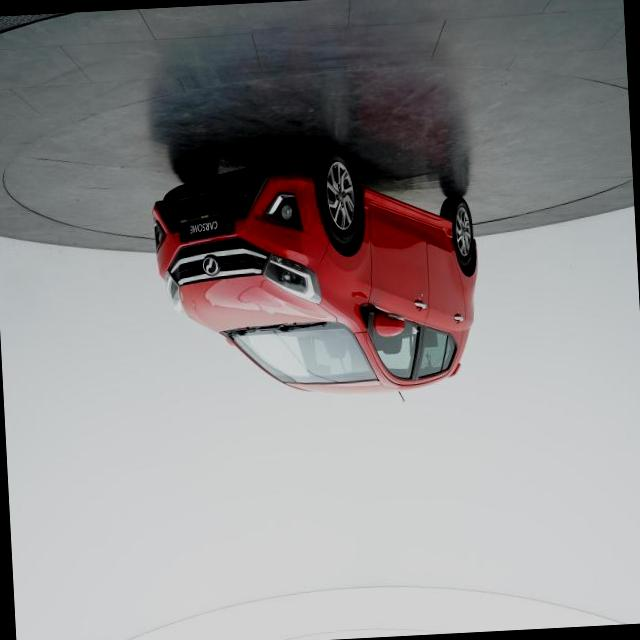PeroduaAxia: (148, 138, 487, 414)
